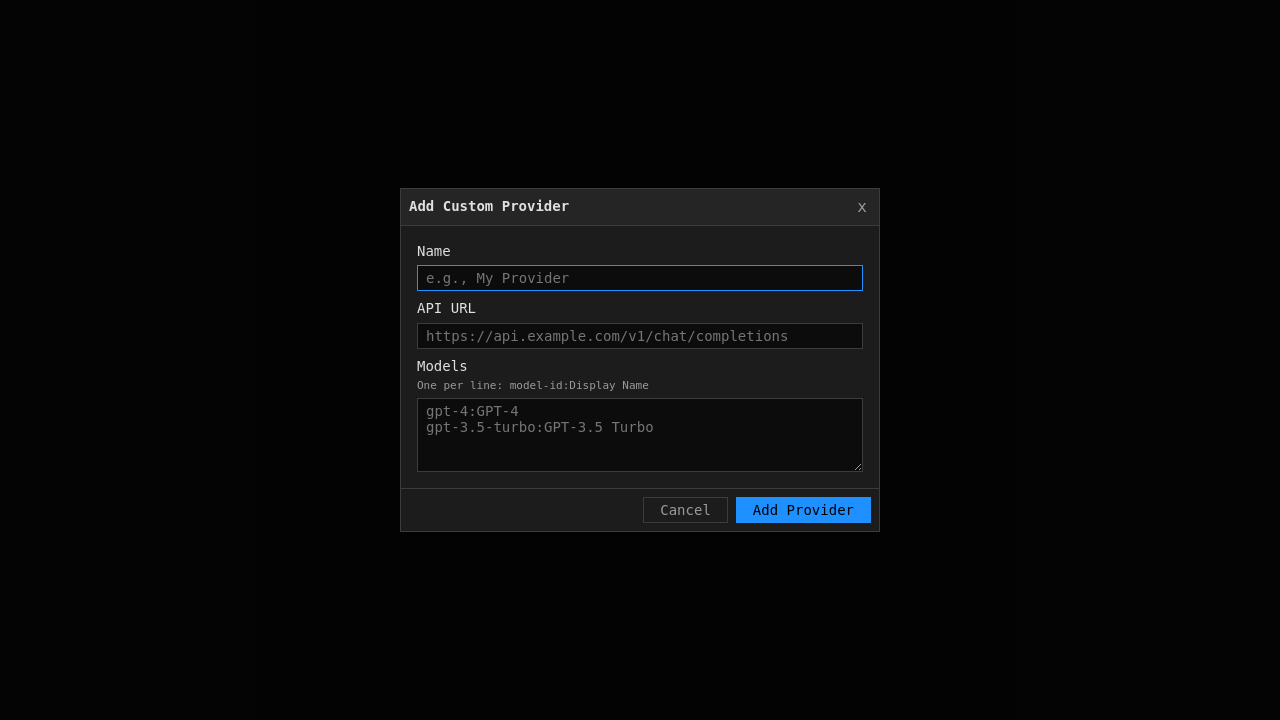
Test: ProviderModal › Add Mode › validates API URL format
This screenshot has width=1280, height=720.
In the field with placeholder "e.g., My Provider": (640, 278) [417,265,863,291], type "Test"
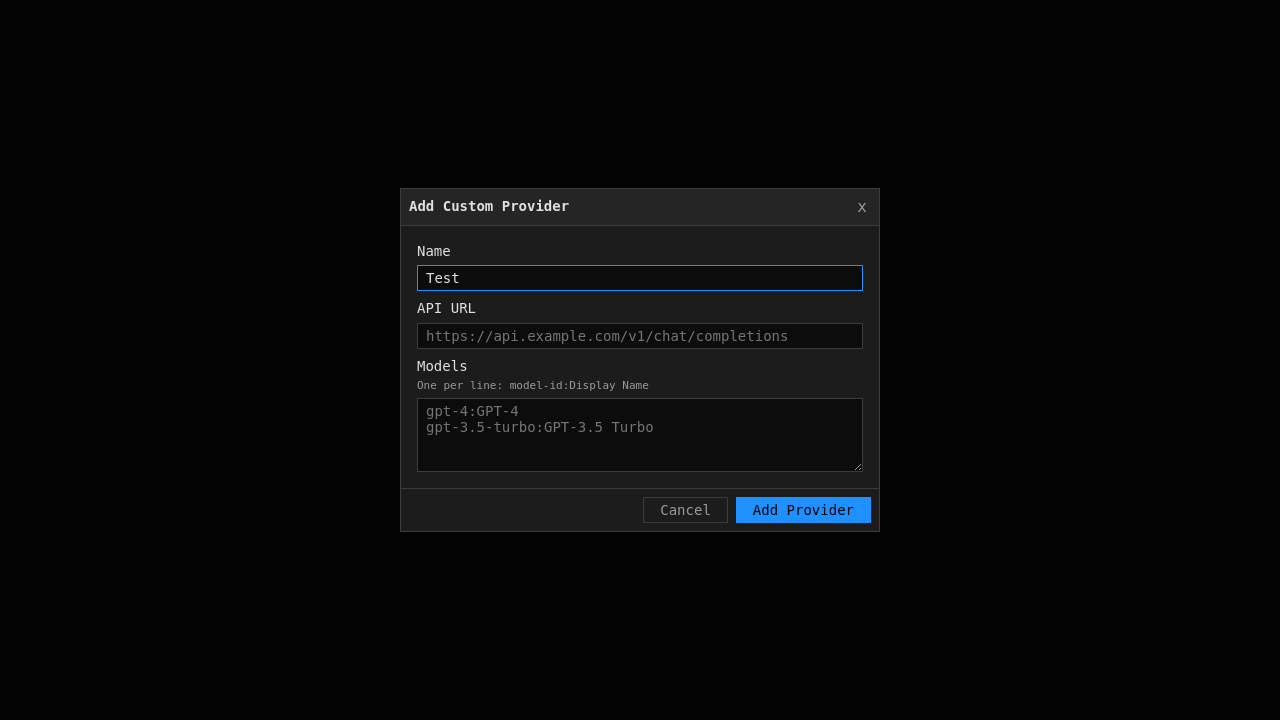
In the field with placeholder "https://api.example.com/v1/chat/completions": (640, 336) [417,323,863,349], type "not-a-valid-url"
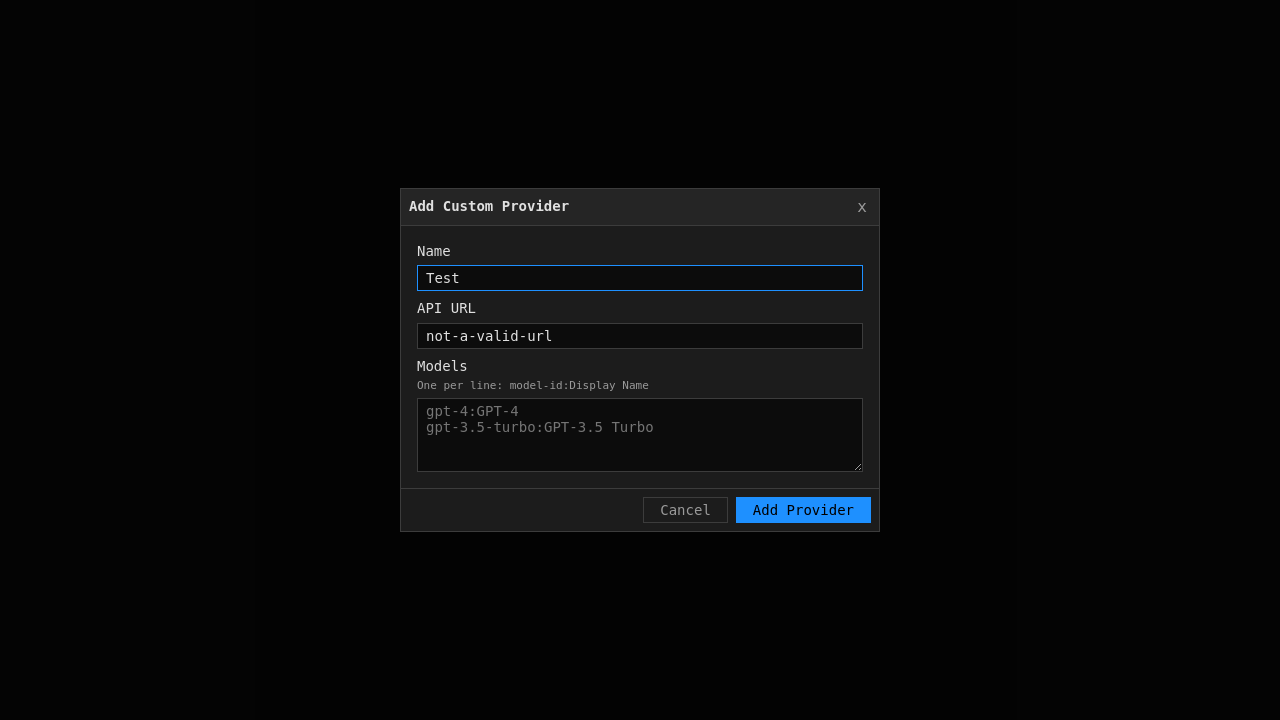
Click the button "Add Provider": (803, 510) [736,497,871,523]
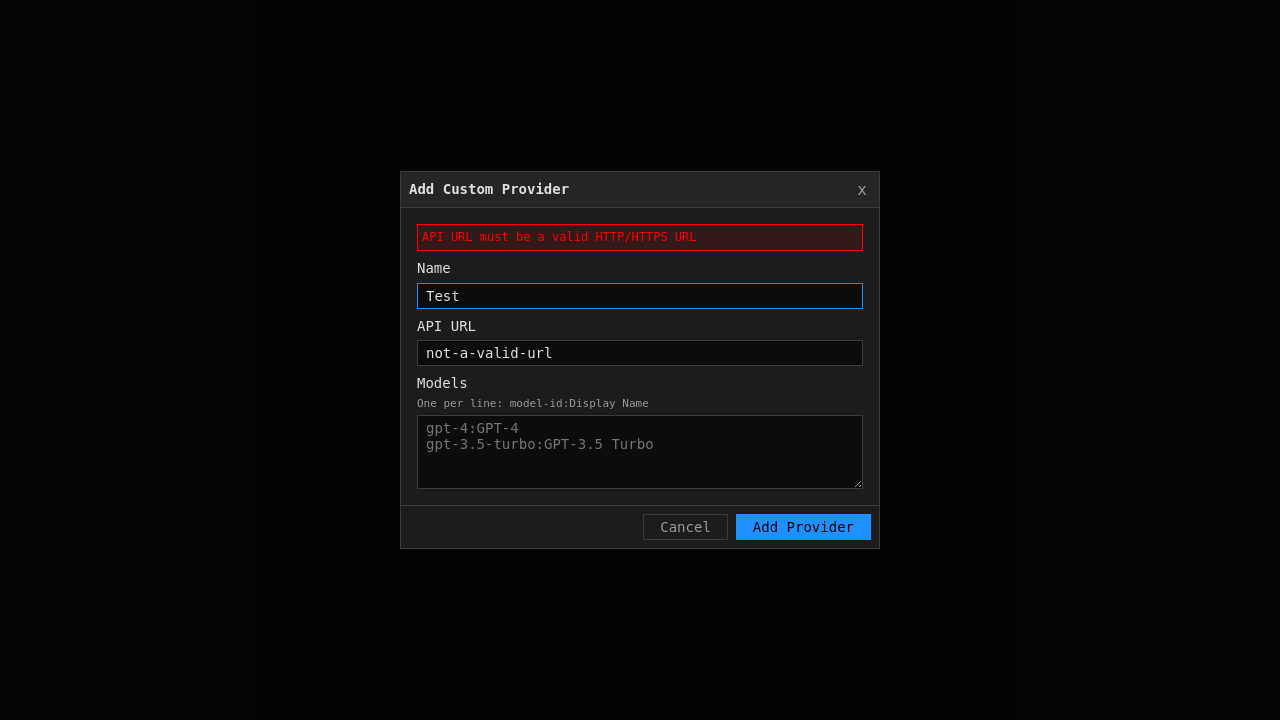
Check: the text "API URL must be a valid HTTP/HTTPS URL" is shown, box [417,224,863,251]
